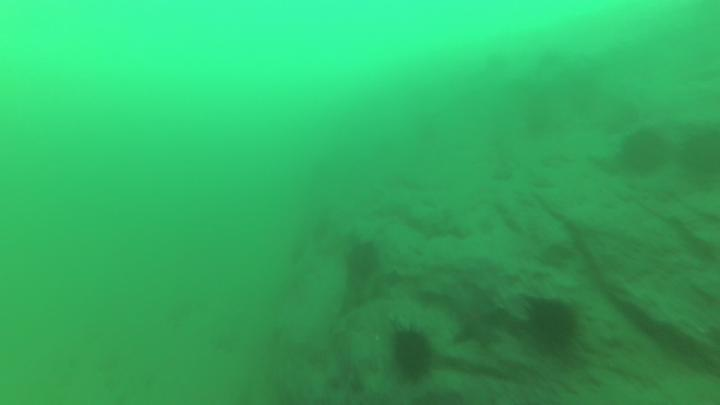echinus: (518, 289, 587, 360), (386, 319, 441, 385), (343, 241, 381, 290)
starfish: (452, 292, 506, 355)
